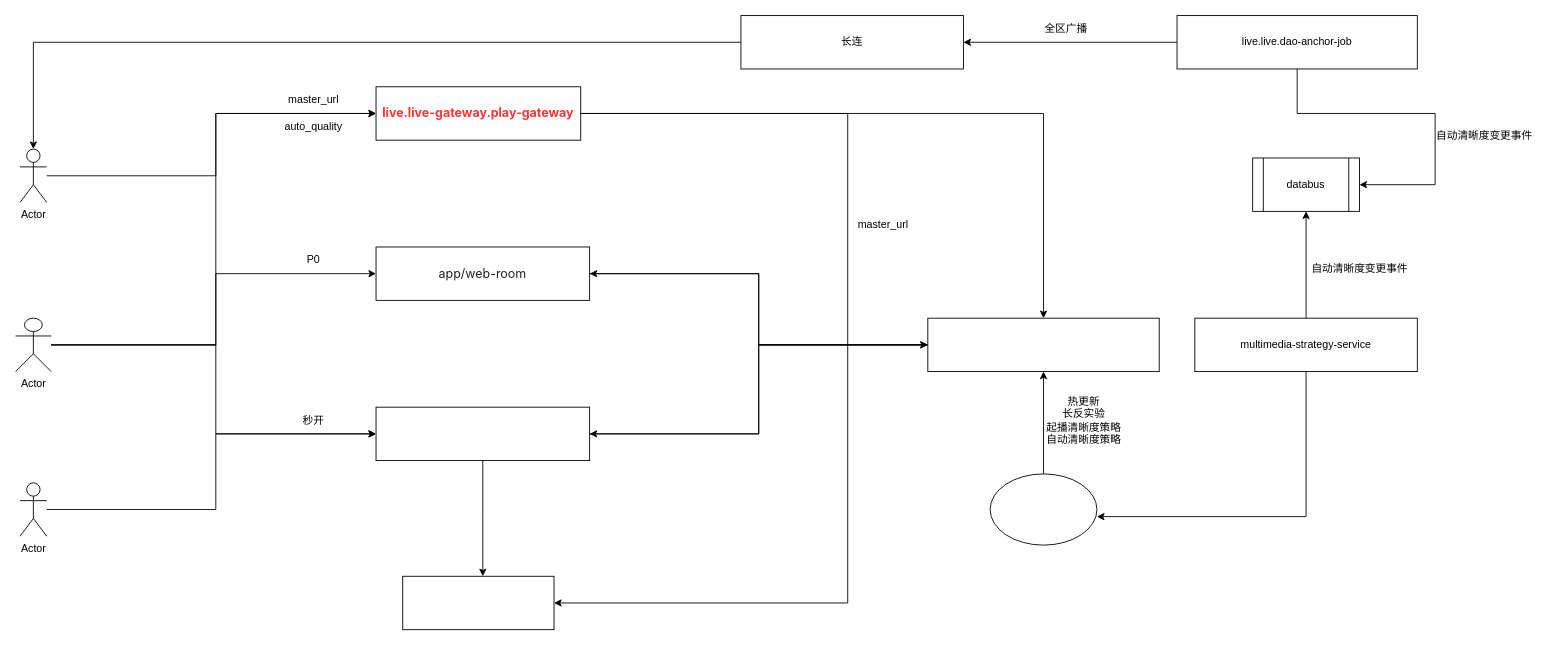
Image size: 1558x645. Some labels were removed from this diagram. Here are the shapes that lost their labels. From the top down, the centre of each, then its label:
pixel 1043 344: live.live-infra.playurl-strategy
pixel 482 433: xroom
pixel 1043 509: paladin
pixel 478 602: video.pung.playurl
